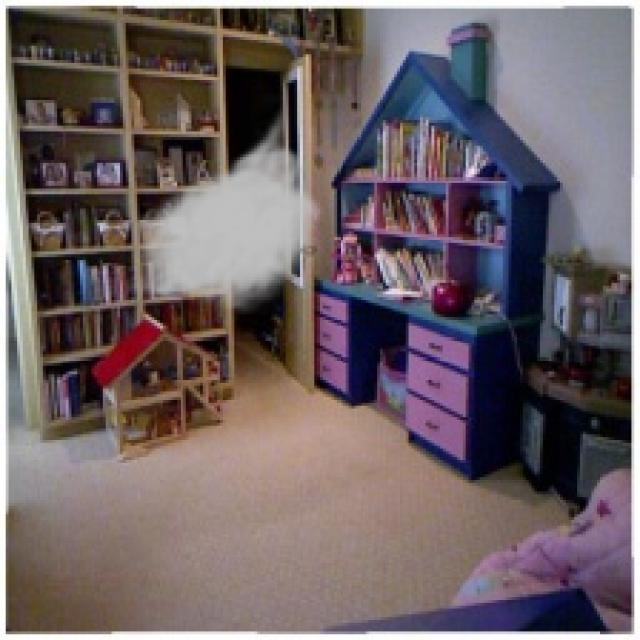smoke: (123, 106, 328, 314)
